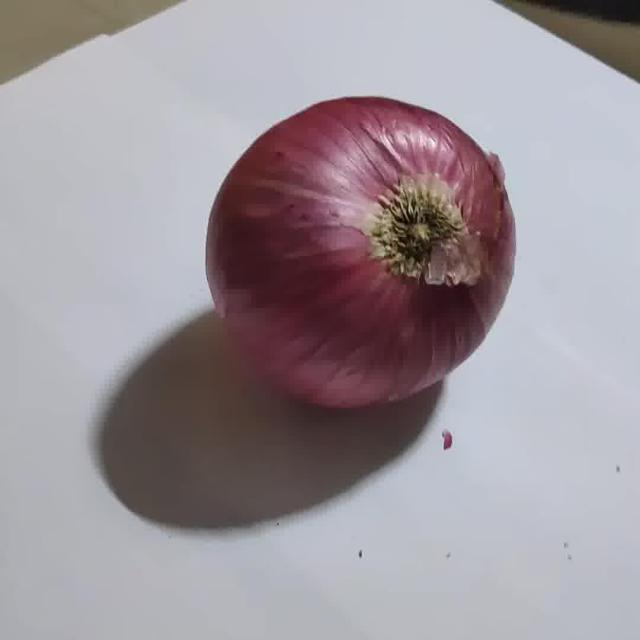Onion: (206, 97, 515, 407)
